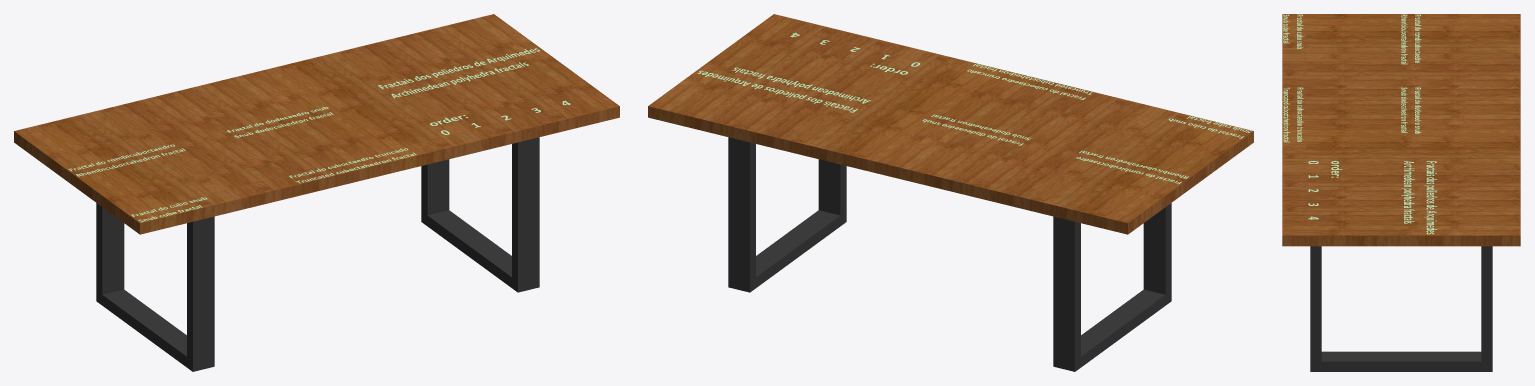
Rendered from fractal_arquim2.glb.
The picture shows the model from 3 angles, left to right: view 1: azimuth 30°, elevation 25°; view 2: azimuth 150°, elevation 25°; view 3: azimuth 270°, elevation 25°; orthographic projection. The views are drawn at different scales.
Visible parts, largest first — view 1: object 1, Composant#1 (×2), Fractais dos pol#2, Fractal do cuboc, Fractal do rombi#1; view 2: object 1, Composant#1 (×2), Fractais dos pol#2, Fractal do cuboc, Fractal do rombi#1; view 3: object 1, Composant#1, Fractais dos pol#2, Fractal do cuboc, Fractal do rombi#1, Fractal do dodec, Fractal do cubo.
Part boxes in pixels (bbox=[...]): object 1: bbox=[14, 14, 619, 234]; Composant#1 (×2): bbox=[96, 137, 539, 371]; Fractais dos pol#2: bbox=[378, 48, 539, 98]; Fractal do cuboc: bbox=[289, 148, 416, 183]; Fractal do rombi#1: bbox=[68, 144, 185, 176]; object 1: bbox=[648, 14, 1253, 234]; Composant#1 (×2): bbox=[728, 137, 1171, 371]; Fractais dos pol#2: bbox=[697, 67, 870, 112]; Fractal do cuboc: bbox=[967, 64, 1091, 99]; Fractal do rombi#1: bbox=[1076, 150, 1188, 184]; object 1: bbox=[1282, 14, 1520, 246]; Composant#1: bbox=[1310, 246, 1492, 371]; Fractais dos pol#2: bbox=[1401, 161, 1437, 234]; Fractal do cuboc: bbox=[1283, 87, 1303, 142]; Fractal do rombi#1: bbox=[1401, 14, 1421, 64]; Fractal do dodec: bbox=[1401, 87, 1421, 133]; Fractal do cubo: bbox=[1283, 14, 1303, 48].
Size of the model in its own units: 2.2 by 0.7711 by 1.
3 materials, 1 textured.
